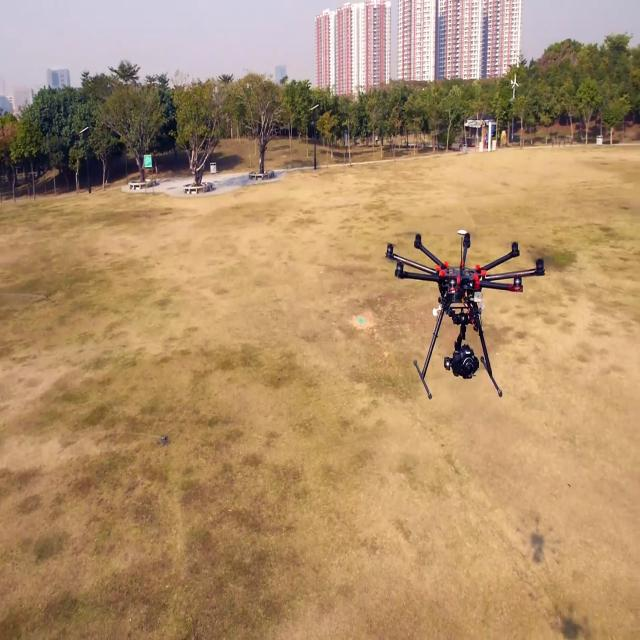drone: (363, 210, 562, 444)
